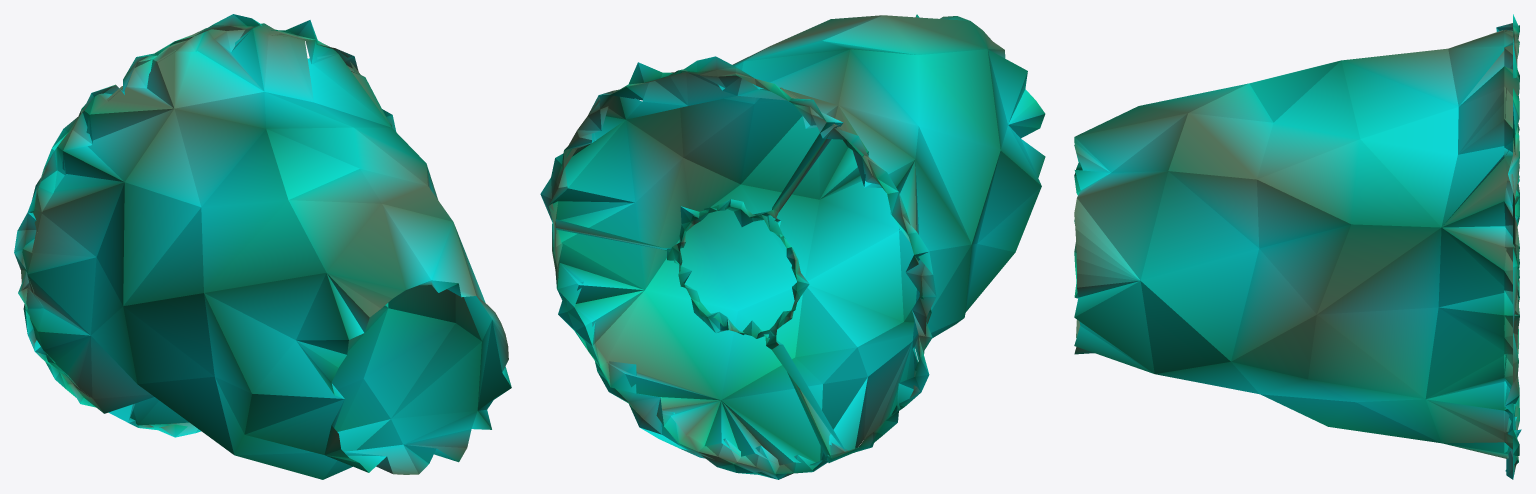
File: lamp_shade_2_final200.obj
The picture shows the model from 3 angles, left to right: view 1: azimuth 30°, elevation 25°; view 2: azimuth 150°, elevation 25°; view 3: azimuth 270°, elevation 25°; orthographic projection. The views are drawn at different scales.
Size of the model in its own units: 1.16 by 1.15 by 1.11.
